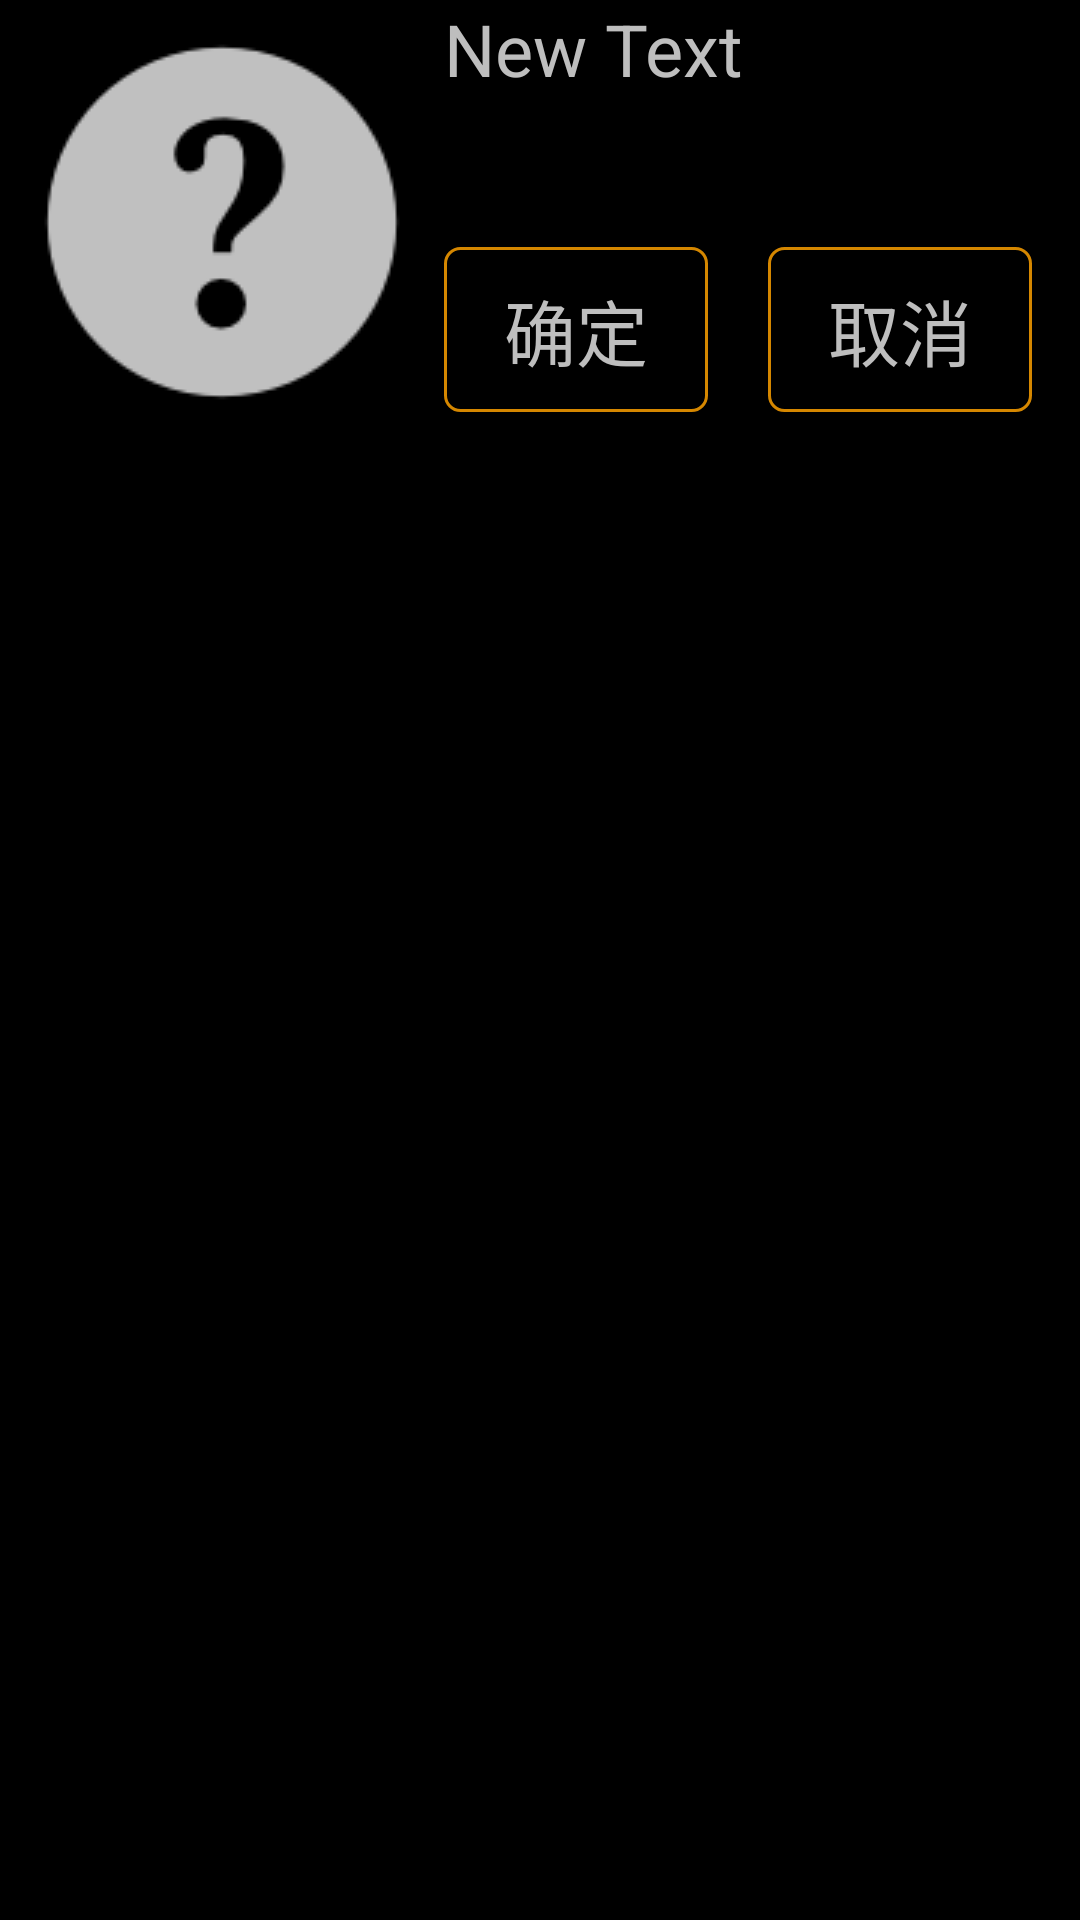

Point at icon controls on the screen. Image size 1080 x 1920, points as (x=x, y=y).
help: (x=222, y=222)
